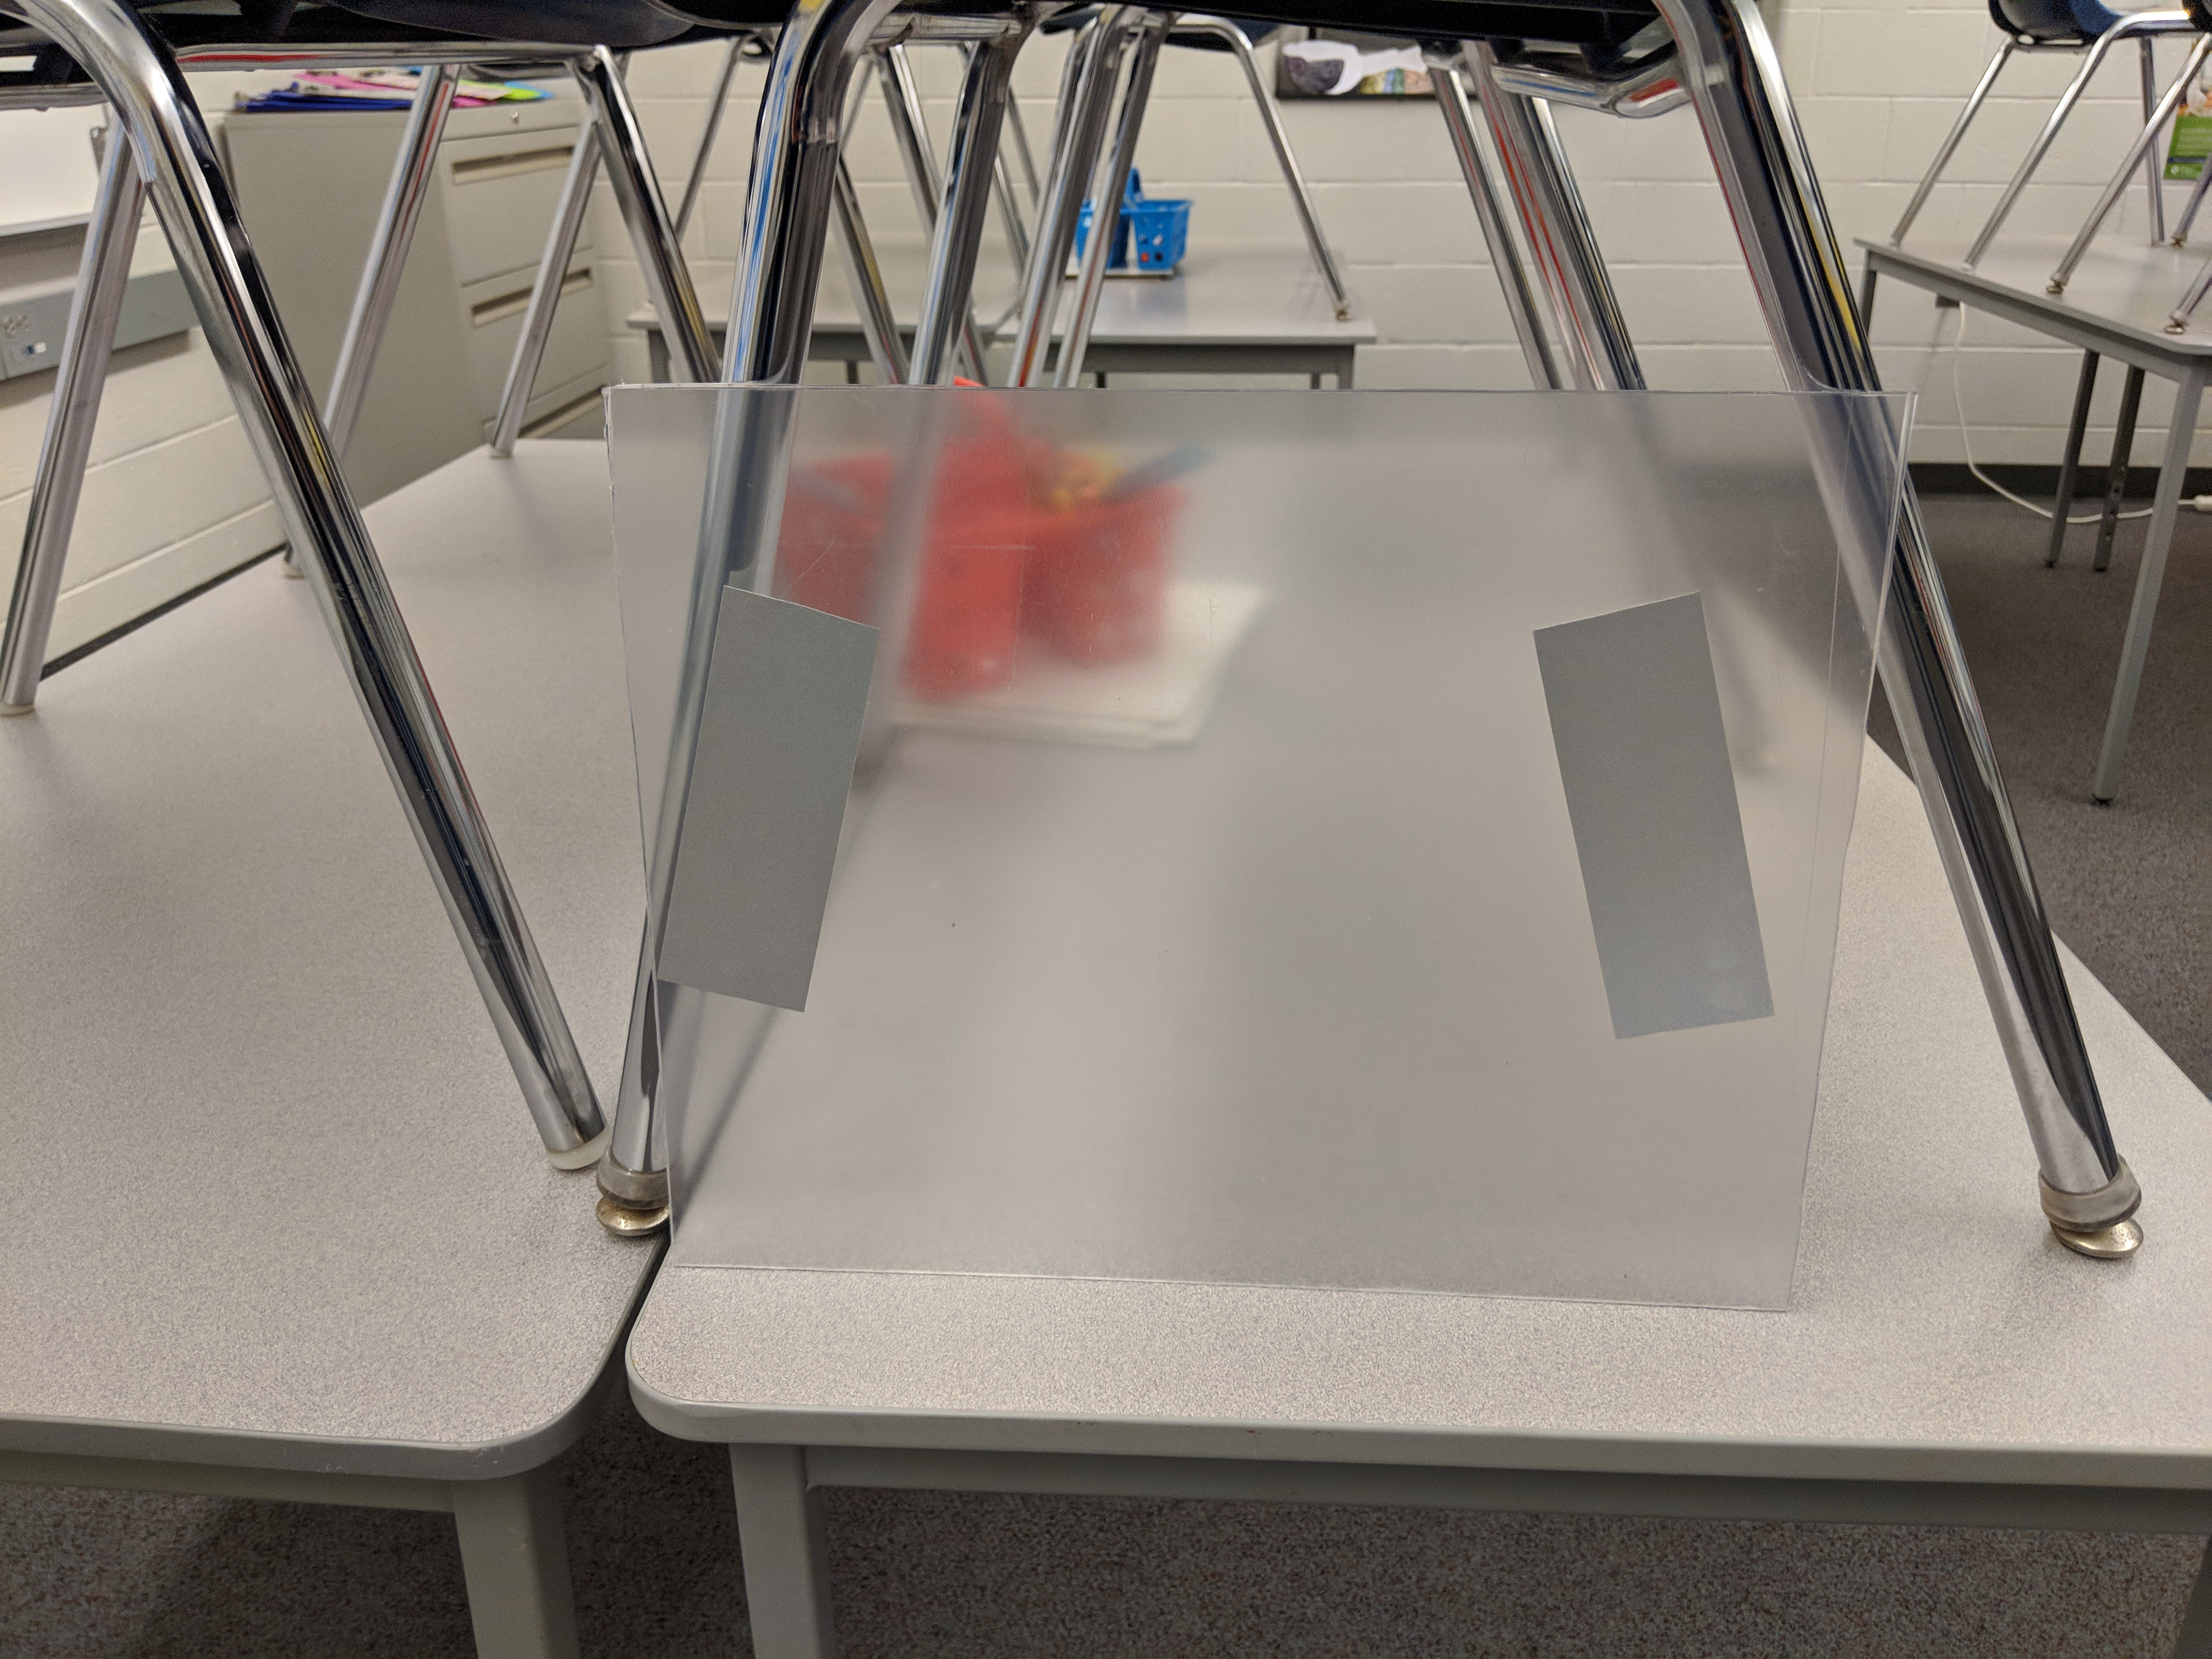vision_target: (643, 563, 1801, 1054)
